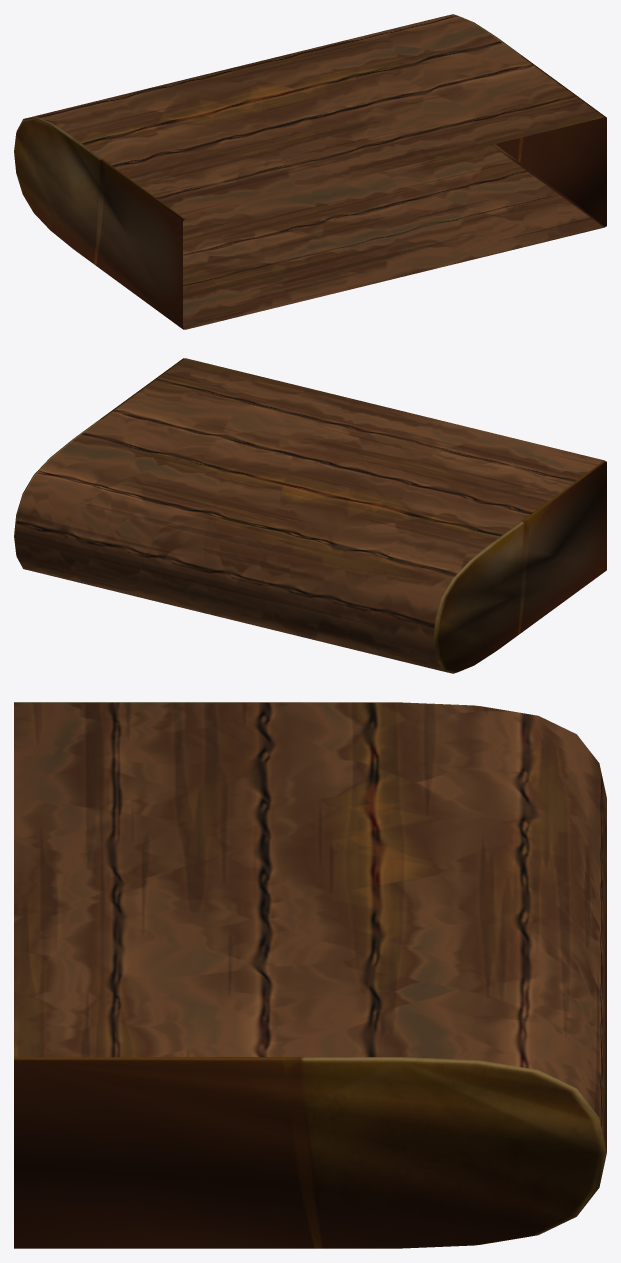
Rendered from woodcuter.fbx.
3 views of the same model, one above another, from view 1: azimuth 30°, elevation 25°; view 2: azimuth 150°, elevation 25°; view 3: azimuth 270°, elevation 25° (orthographic). The views are drawn at different scales.
Parts seen in each view (by area): view 1: Cube.001_Baked; view 2: Cube.001_Baked; view 3: Cube.001_Baked.
Part boxes in pixels (x1,y1,x2,y2): Cube.001_Baked: (14, 14, 606, 329); Cube.001_Baked: (14, 358, 606, 673); Cube.001_Baked: (14, 702, 606, 1248).
Bounding box in the file's own units: 66.83 × 16.61 × 46.7.
Materials: 1 (1 with a texture image).
